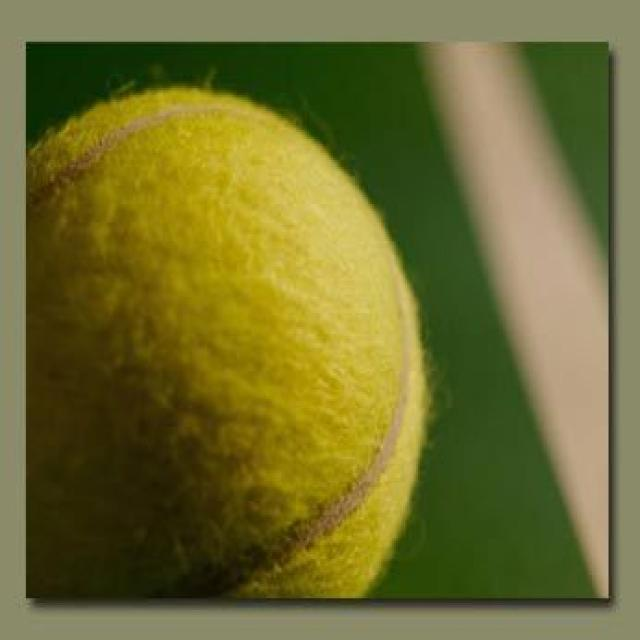Tennis Ball: (24, 83, 438, 610)
